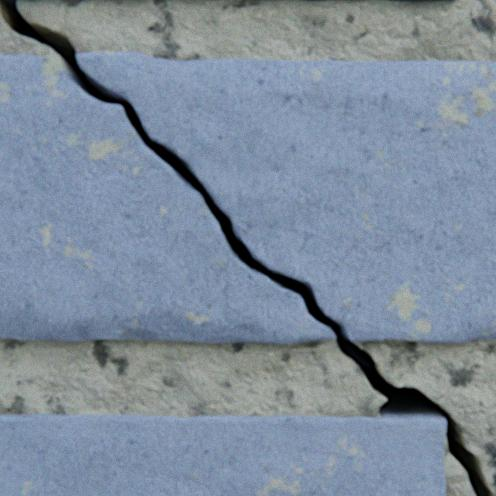brick: (0, 413, 444, 495), (248, 0, 340, 2), (379, 0, 454, 2)
broken_brick: (77, 52, 495, 342), (0, 55, 334, 342)
crack: (0, 0, 494, 495)
